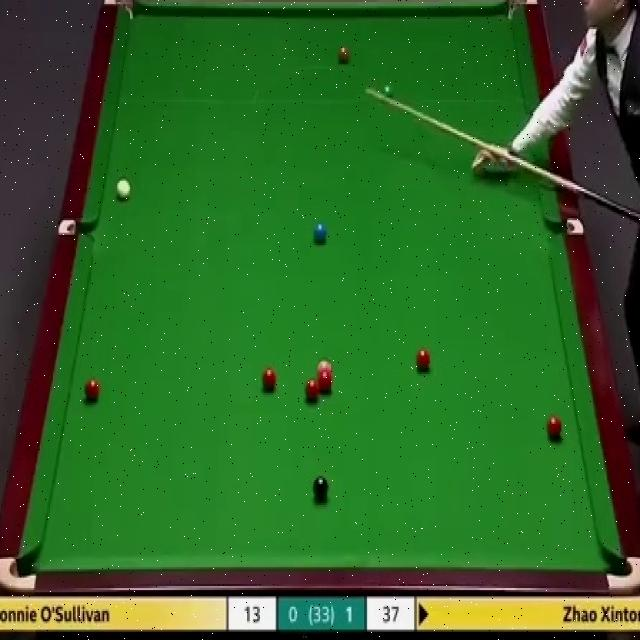black-ball: (313, 474, 329, 501)
blue-ball: (313, 220, 328, 243)
brown-ball: (336, 45, 349, 65)
green-ball: (380, 82, 394, 104)
pink-ball: (316, 360, 333, 374)
red-ball: (84, 376, 101, 404), (546, 416, 564, 439), (316, 371, 333, 393), (415, 348, 430, 372), (261, 368, 276, 391), (305, 380, 320, 401)
white-ball: (114, 176, 132, 202)
